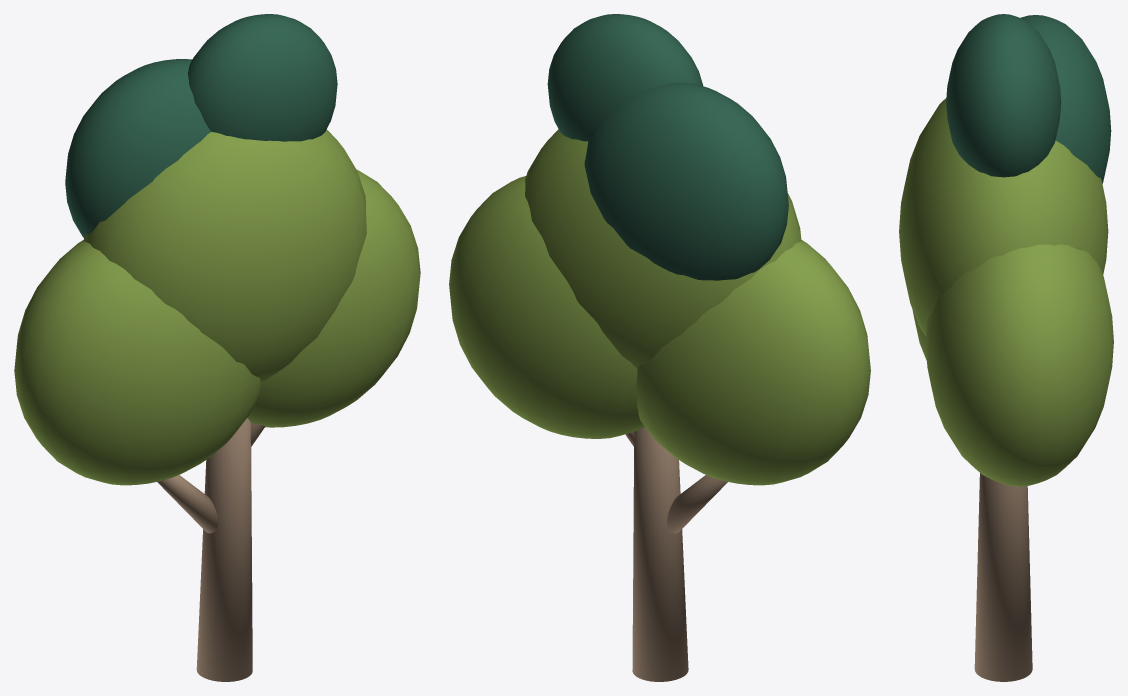
The model's file is 16_broadleaf_tree.glb.
3 views of the same model, side by side, from view 1: azimuth 30°, elevation 25°; view 2: azimuth 150°, elevation 25°; view 3: azimuth 270°, elevation 25° (orthographic). The views are drawn at different scales.
Parts seen in each view (by area): view 1: Leaf crown, Leaf crown.001, Leaf crown.002, Leaf crown.004, Leaf crown.003, Trunk, Tree branch; view 2: Leaf crown.001, Leaf crown.003, Leaf crown.002, Leaf crown, Leaf crown.004, Trunk, Tree branch; view 3: Leaf crown.002, Leaf crown, Leaf crown.004, Trunk, Leaf crown.003.
Boxes of the visible parts, x1=… form: Leaf crown: x1=83, y1=129, x2=366, y2=382; Leaf crown.001: x1=14, y1=239, x2=261, y2=485; Leaf crown.002: x1=247, y1=169, x2=420, y2=427; Leaf crown.004: x1=187, y1=14, x2=337, y2=141; Leaf crown.003: x1=65, y1=59, x2=211, y2=237; Trunk: x1=196, y1=418, x2=252, y2=681; Tree branch: x1=157, y1=475, x2=218, y2=533; Leaf crown.001: x1=636, y1=240, x2=870, y2=485; Leaf crown.003: x1=584, y1=82, x2=788, y2=280; Leaf crown.002: x1=449, y1=176, x2=644, y2=438; Leaf crown: x1=525, y1=129, x2=801, y2=368; Leaf crown.004: x1=547, y1=14, x2=703, y2=141; Trunk: x1=632, y1=427, x2=688, y2=681; Tree branch: x1=667, y1=475, x2=727, y2=533; Leaf crown.002: x1=925, y1=244, x2=1113, y2=486; Leaf crown: x1=899, y1=98, x2=1108, y2=336; Leaf crown.004: x1=946, y1=14, x2=1061, y2=177; Trunk: x1=974, y1=473, x2=1032, y2=681; Leaf crown.003: x1=1020, y1=15, x2=1111, y2=183.
Bounding box in the file's own units: 2.95 × 4.55 × 1.33.
